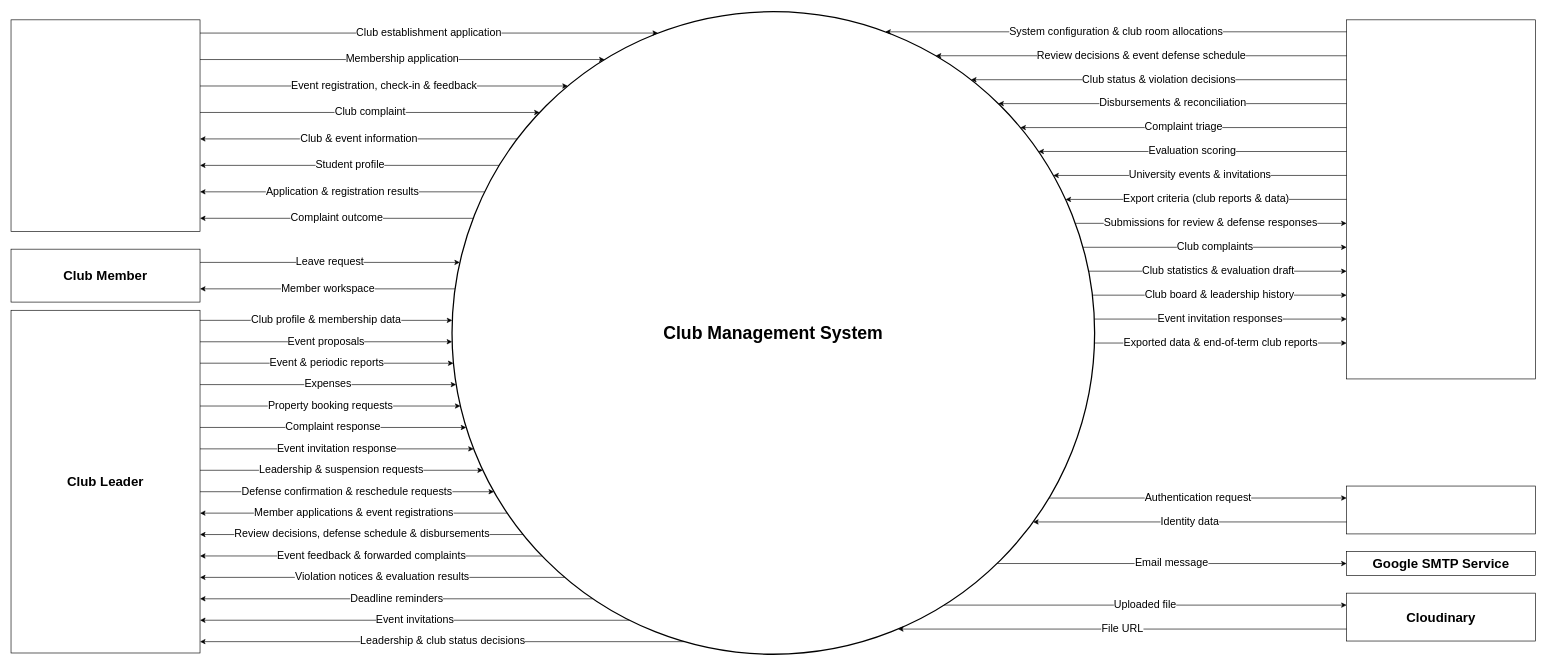
The diagram is 1547 pixels wide and 665 high, and some of its shapes have lost their labels. Each missing label, with the centre of its shape:
Google OAuth: [1441,509]
ICPDP Officer: [1441,199]
Student: [105,125]
